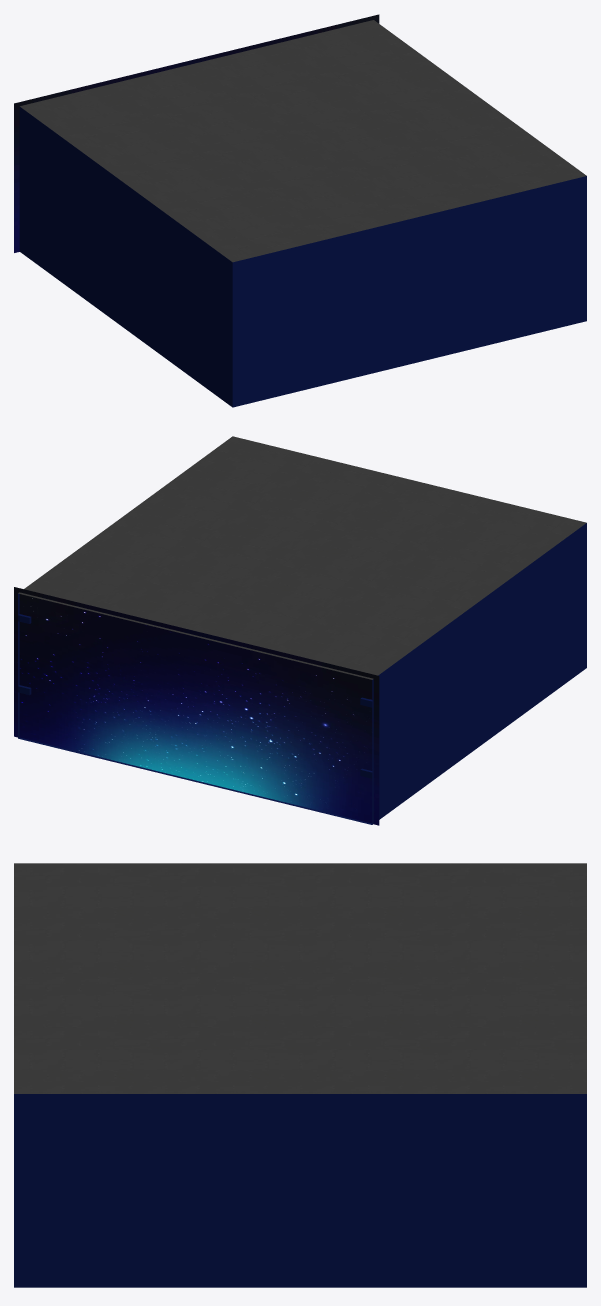
The picture shows the model from 3 angles, top to bottom: view 1: azimuth 30°, elevation 25°; view 2: azimuth 150°, elevation 25°; view 3: azimuth 270°, elevation 25°; orthographic projection. The views are drawn at different scales.
Visible parts, largest first — view 1: Chairs, Rooftop, BackDrop_Wall; view 2: Rooftop, BackDrop_Wall, Chairs; view 3: Rooftop, Chairs.
Part boxes in pixels (bbox=[...]): Chairs: bbox=[19, 107, 586, 407]; Rooftop: bbox=[20, 20, 586, 262]; BackDrop_Wall: bbox=[14, 14, 379, 252]; Rooftop: bbox=[18, 436, 586, 679]; BackDrop_Wall: bbox=[14, 587, 379, 825]; Chairs: bbox=[18, 523, 586, 824]; Rooftop: bbox=[14, 863, 586, 1093]; Chairs: bbox=[14, 1094, 586, 1287].
Size of the model in its own units: 30.93 by 12.12 by 31.5.
Materials: 8 (5 with a texture image).
